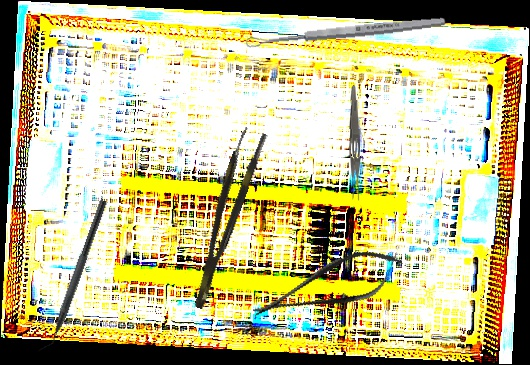Chopper: (36, 195, 108, 358)
Dressing Forceps: (345, 84, 363, 202)
Micro Scissor: (245, 237, 410, 335)
Surgical Spoon: (244, 14, 447, 50)
Tissue Forceps: (179, 125, 268, 311)
